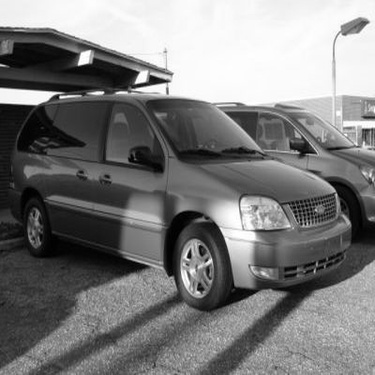car: (1, 85, 358, 313), (203, 97, 371, 240)
